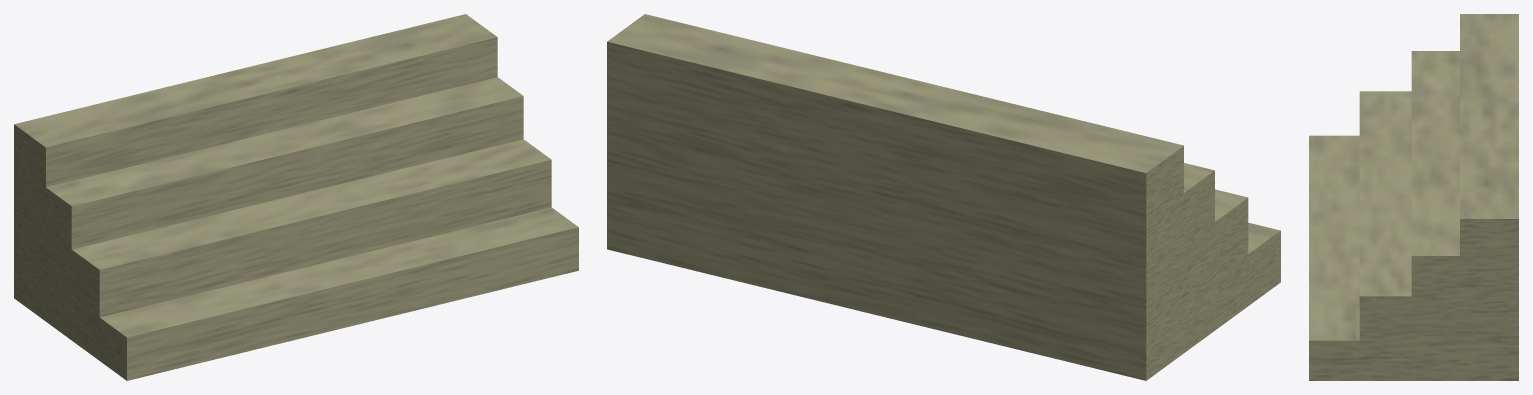
Rendered from Stairs.gltf.
3 renders of one model, left to right at view 1: azimuth 30°, elevation 25°; view 2: azimuth 150°, elevation 25°; view 3: azimuth 270°, elevation 25°, orthographic. The views are drawn at different scales.
Parts seen in each view (by area): view 1: Cube; view 2: Cube; view 3: Cube.
Part boxes in pixels (left/top/right/bottom): Cube: left=14, top=14, right=578, bottom=380; Cube: left=607, top=14, right=1280, bottom=380; Cube: left=1309, top=14, right=1518, bottom=380.
Bounding box in the file's own units: 6.98 × 2.57 × 3.02.
1 material, 1 textured.
